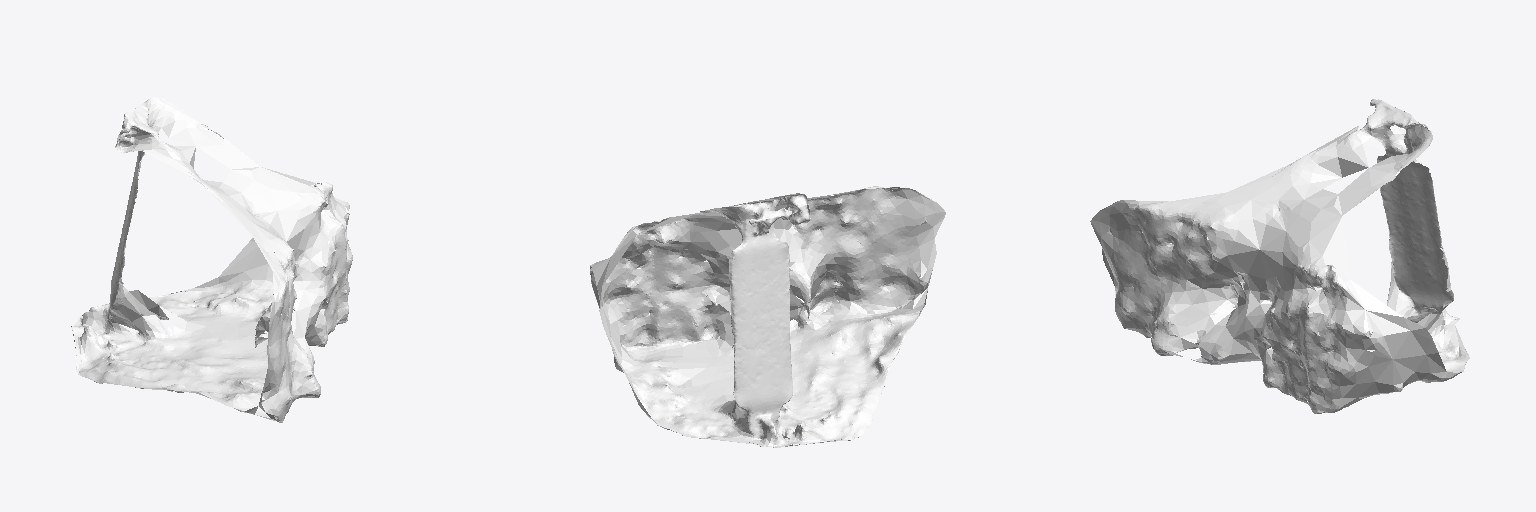
The model's file is Scaniverse_2025_12_24_132755.obj.
3 renders of one model, left to right at view 1: azimuth 30°, elevation 25°; view 2: azimuth 150°, elevation 25°; view 3: azimuth 270°, elevation 25°, orthographic.
Visible parts, largest first — view 1: mesh; view 2: mesh; view 3: mesh.
Boxes of the visible parts, x1,y1,x2,y2 form: mesh: [71, 97, 352, 422]; mesh: [590, 186, 945, 447]; mesh: [1090, 99, 1469, 413].
Bounding box in the file's own units: 1.17 × 0.9749 × 1.42.